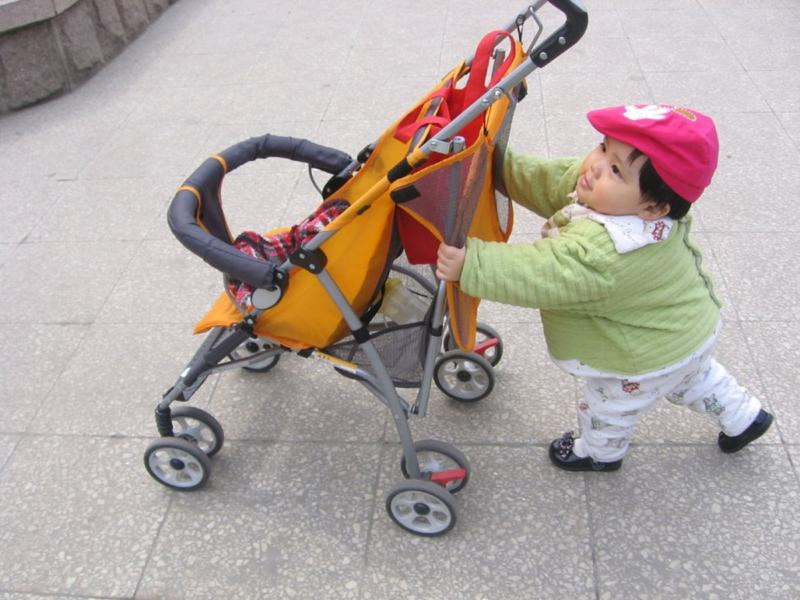person: (438, 106, 778, 475)
